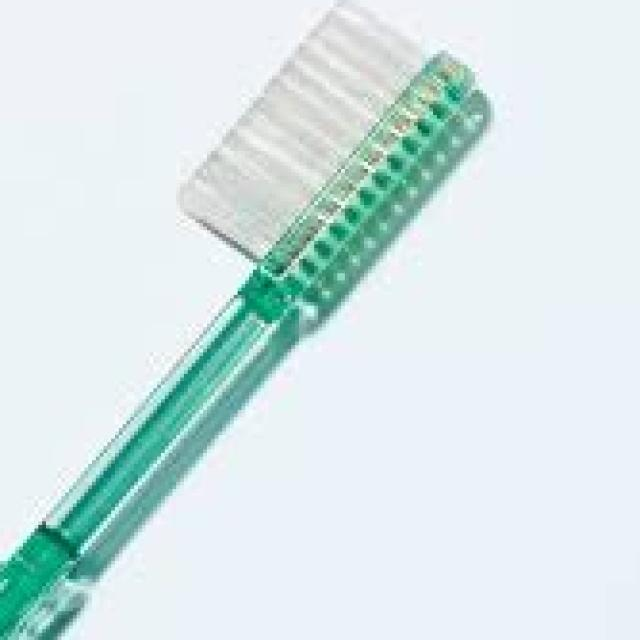organic: (16, 1, 475, 620)
